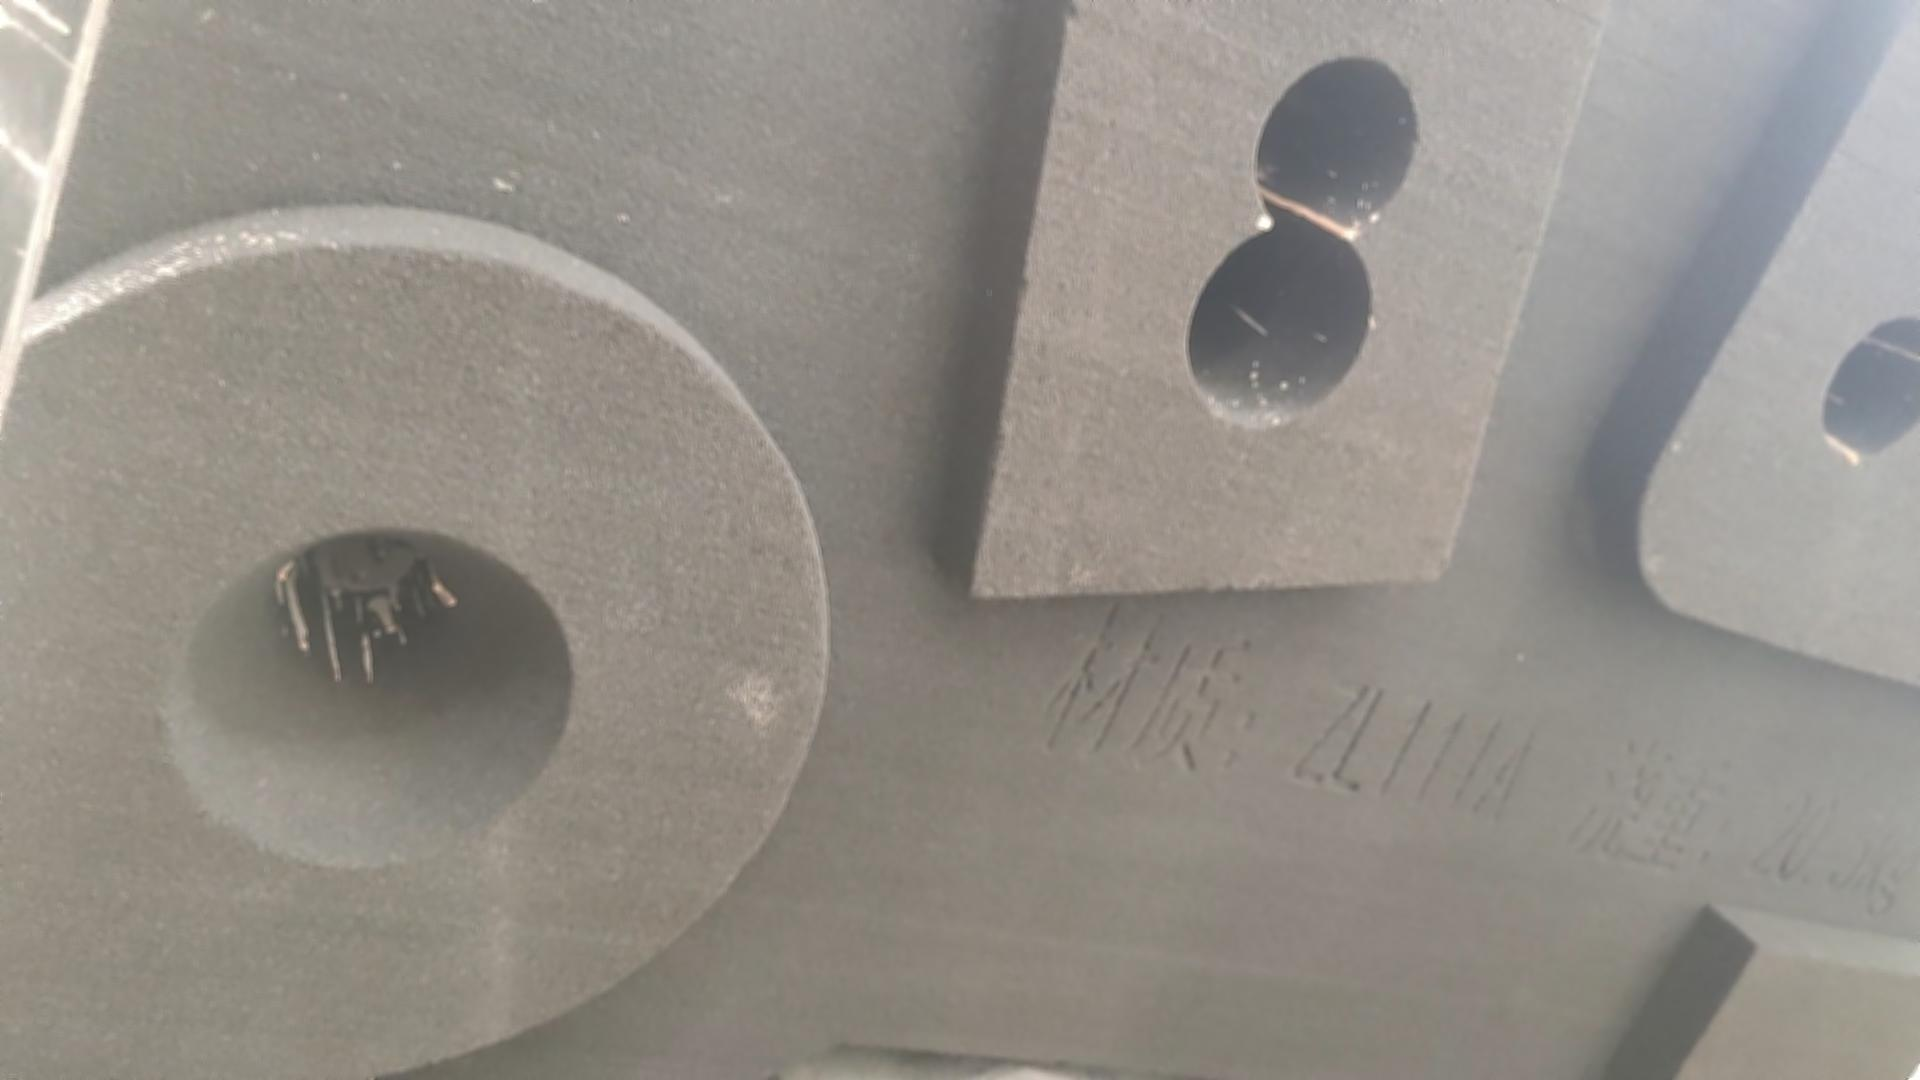pouring hole: (164, 527, 572, 873)
